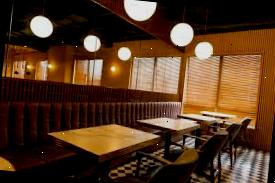Clean Table: (43, 108, 170, 174)
